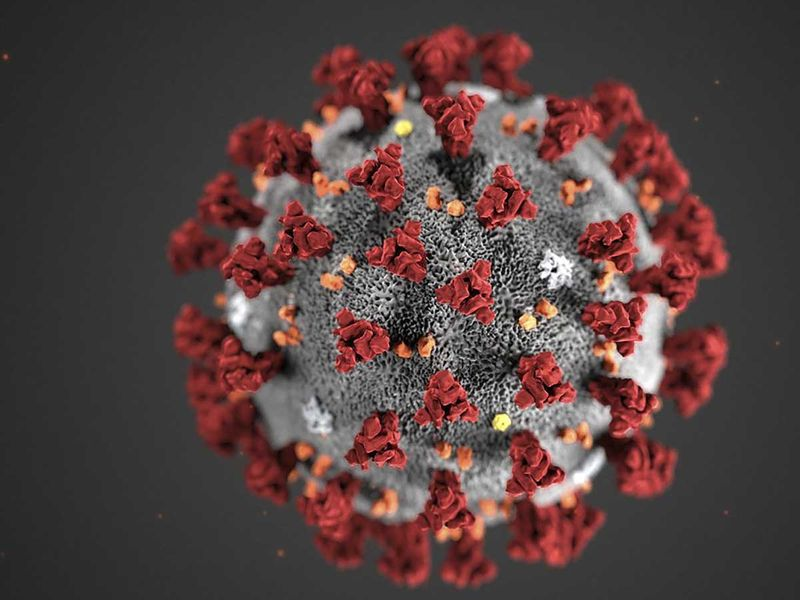COVID19: (154, 9, 748, 591)
